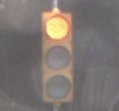Red: (40, 7, 74, 103)
